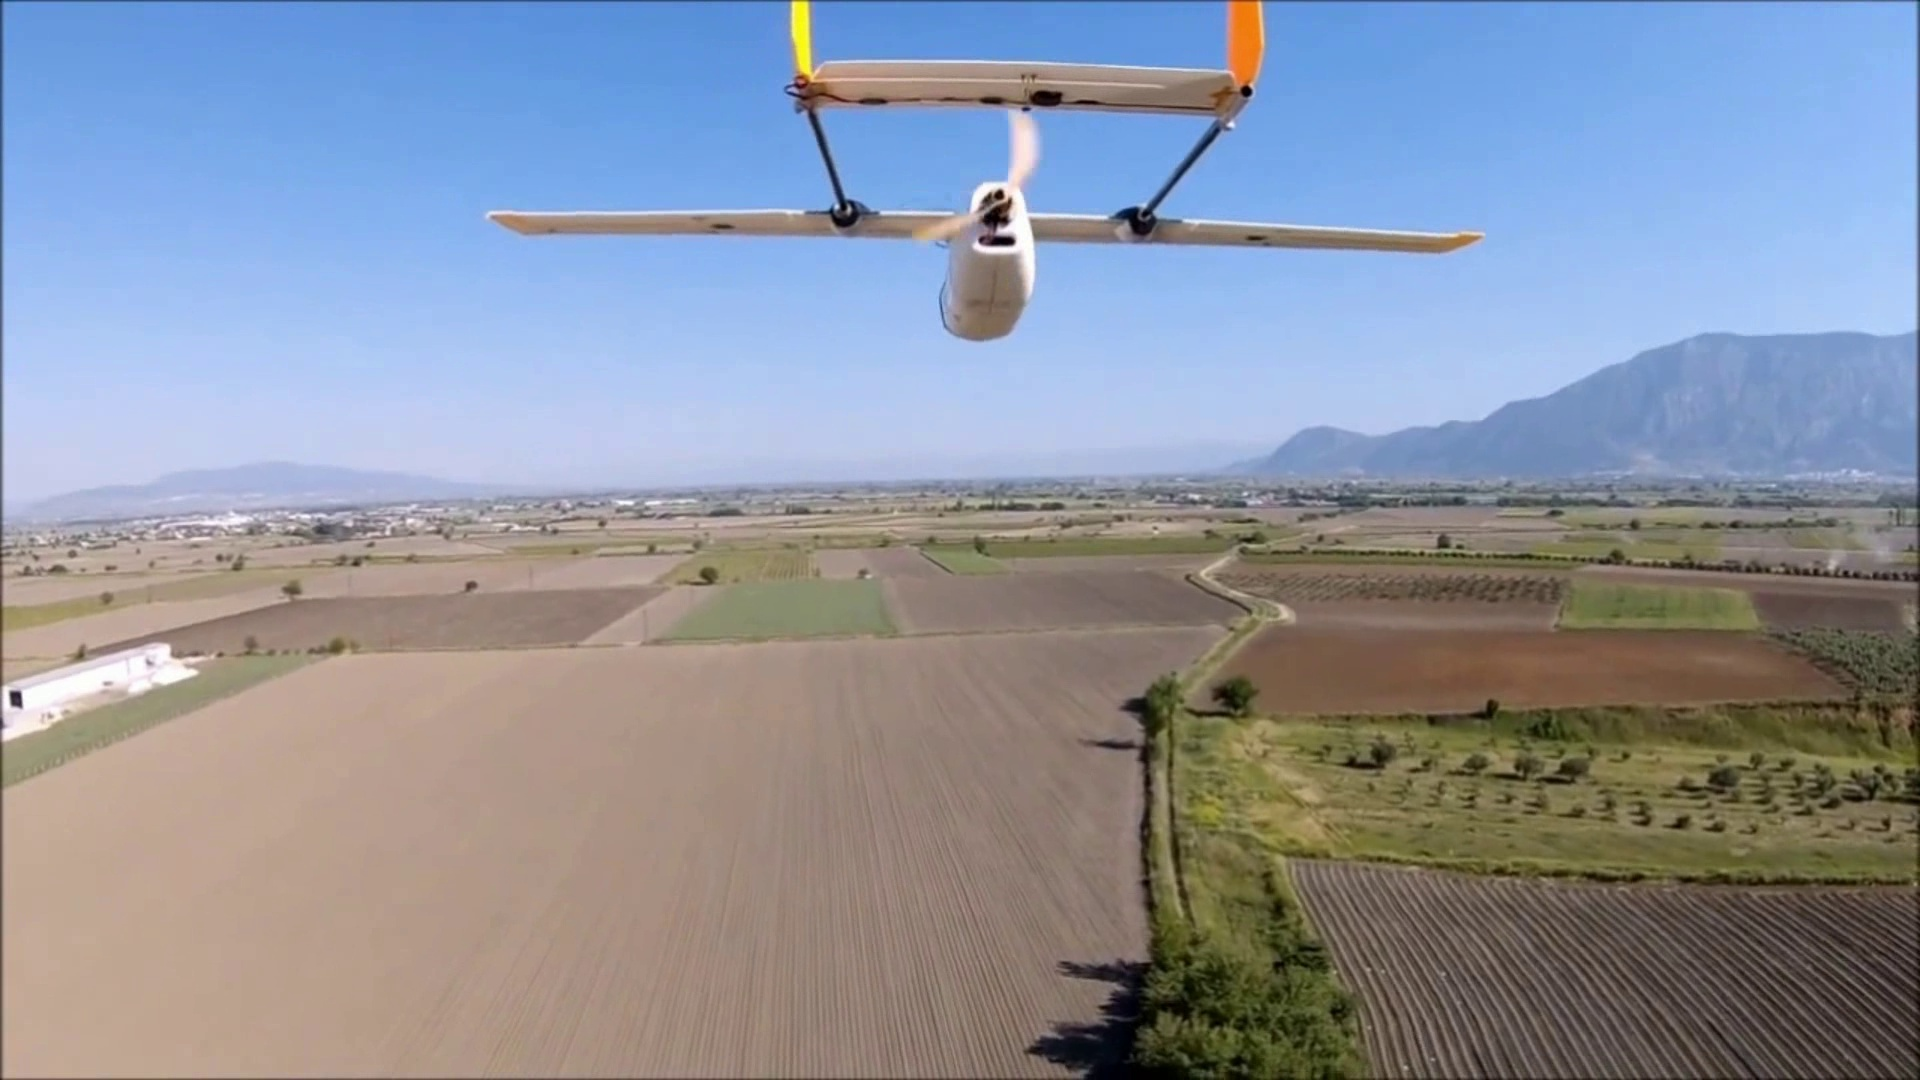airplane: (487, 4, 1484, 343)
